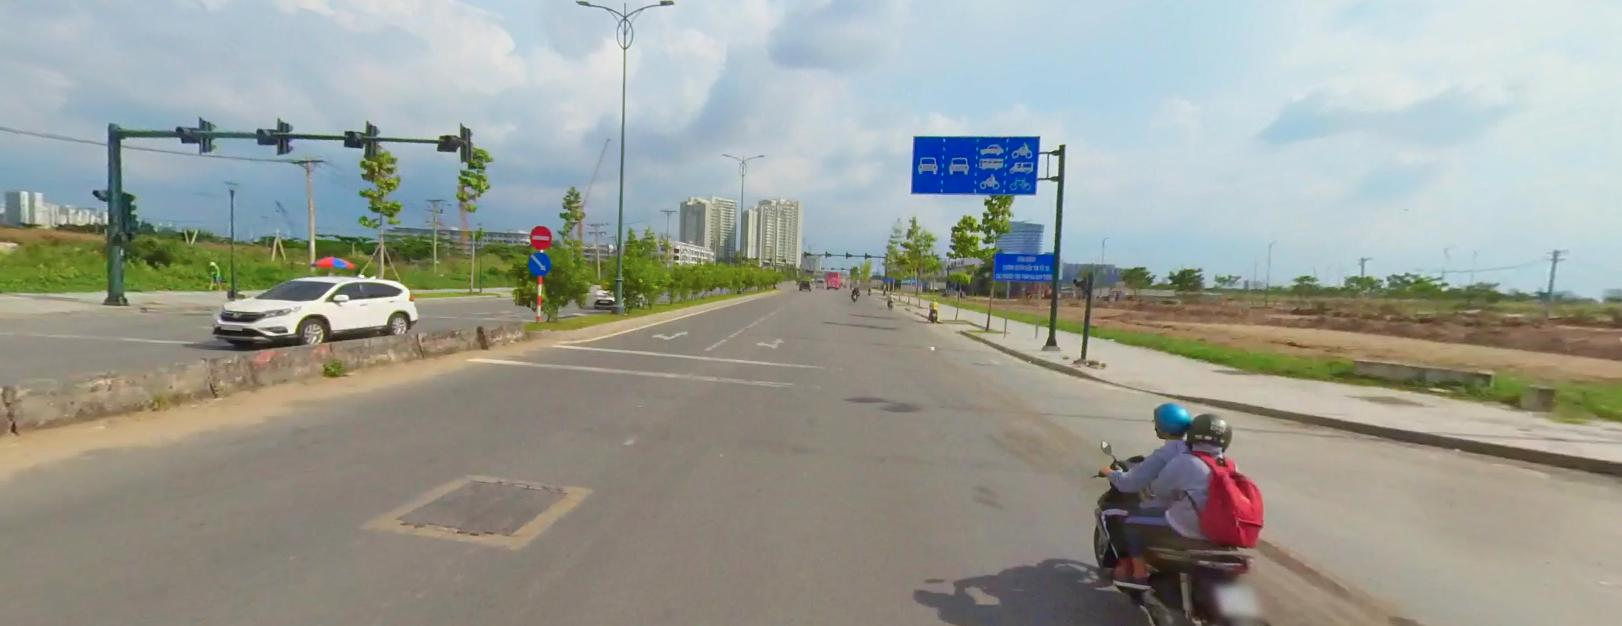Cam nguoc chieu: (529, 225, 552, 248)
Hieu lenh: (529, 251, 550, 274)
